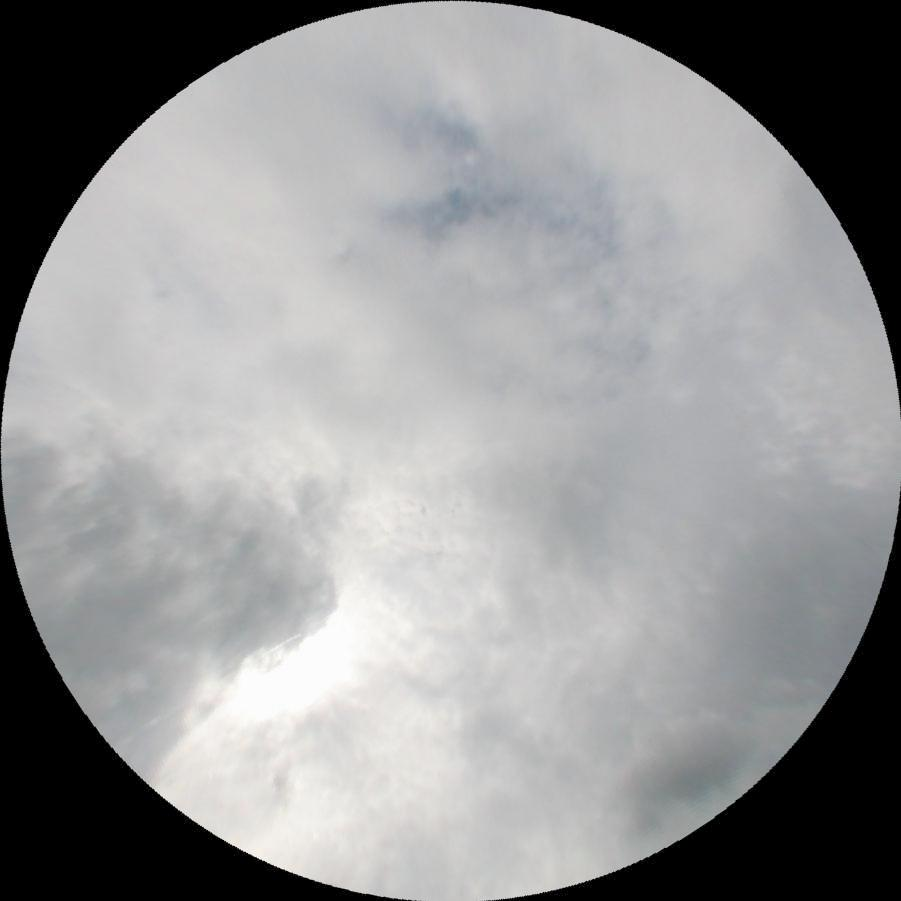parasite: (112, 631, 298, 749)
sun: (227, 618, 364, 736)
